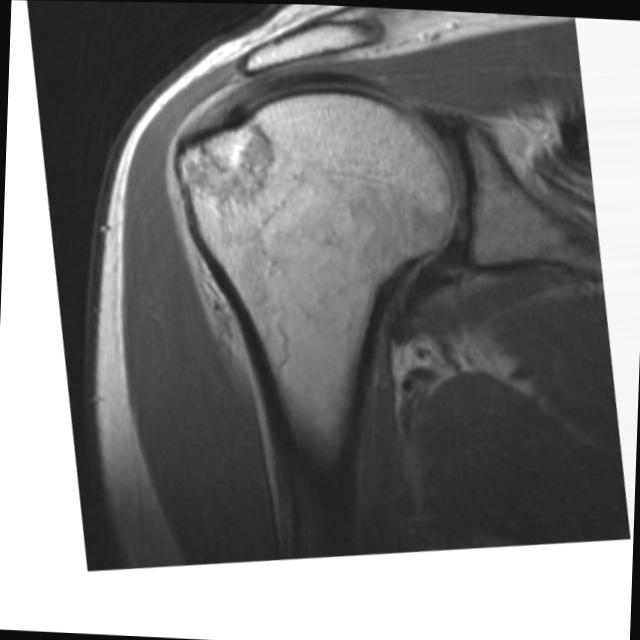Comminuted: (166, 107, 296, 215)
